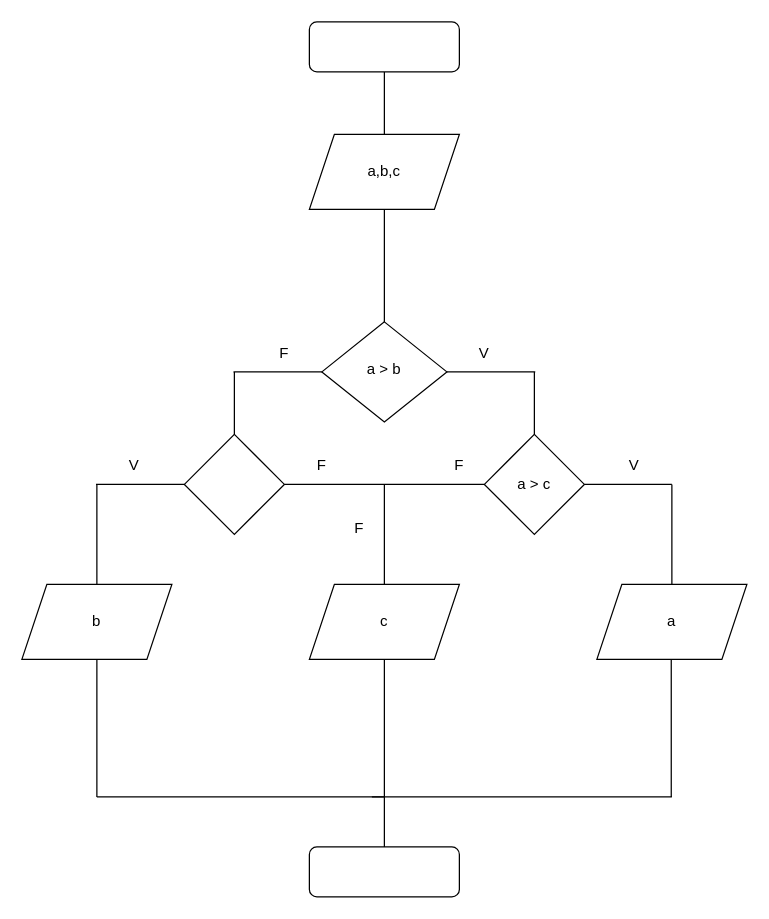
The diagram is 769 pixels wide and 919 high, and some of its shapes have lost their labels. The box of each missing label's shape, as (x1, y1, x2, y2) in pixels:
b > c: (183, 433, 284, 534)
fine: (308, 846, 459, 897)
inizio: (308, 21, 459, 72)
